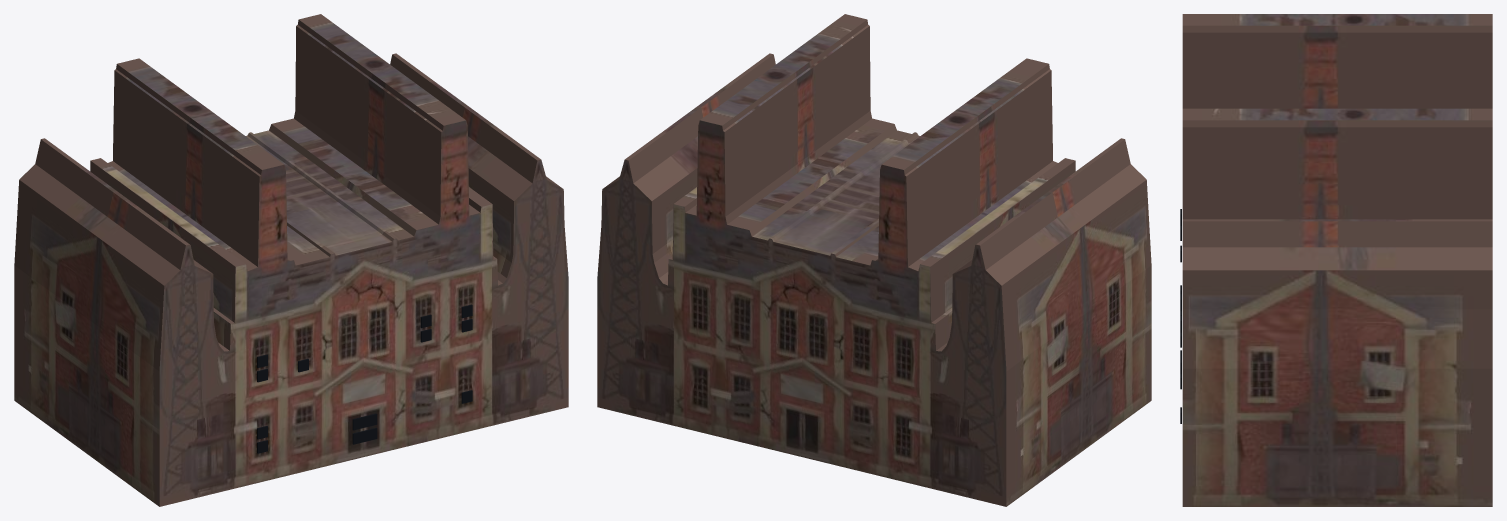
File: bg_industrial_factory_3_lod0.glb
The picture shows the model from 3 angles, left to right: view 1: azimuth 30°, elevation 25°; view 2: azimuth 150°, elevation 25°; view 3: azimuth 270°, elevation 25°; orthographic projection. The views are drawn at different scales.
Parts seen in each view (by area): view 1: body, windows; view 2: body; view 3: body.
Part boxes in pixels (left/top/right/bottom): body: left=14, top=14, right=568, bottom=506; windows: left=257, top=304, right=472, bottom=453; body: left=597, top=14, right=1151, bottom=506; body: left=1182, top=14, right=1492, bottom=506.
Size of the model in its own units: 12 by 8.74 by 7.44.
2 materials, 1 textured.
